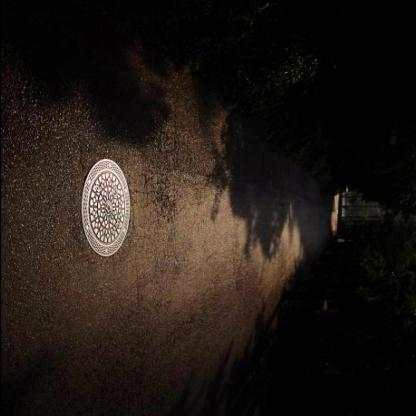manholes: (61, 156, 148, 266)
